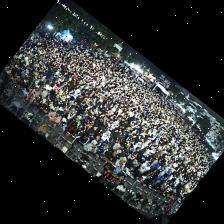person: (68, 133, 90, 150), (134, 162, 151, 178), (133, 152, 148, 167), (137, 169, 151, 184), (152, 174, 168, 186), (65, 122, 77, 138), (103, 150, 116, 163), (123, 162, 135, 176), (75, 121, 87, 134), (48, 111, 61, 123), (84, 141, 97, 153), (128, 147, 139, 161), (151, 163, 167, 172), (151, 181, 164, 192), (39, 101, 50, 114), (99, 131, 110, 143), (108, 144, 120, 155), (116, 149, 128, 160), (115, 158, 125, 170), (31, 95, 41, 107), (87, 125, 97, 137), (144, 177, 157, 186), (114, 131, 125, 141), (50, 94, 60, 105), (68, 102, 77, 114), (52, 81, 61, 93), (16, 78, 25, 90), (96, 144, 104, 157), (152, 151, 162, 161), (109, 138, 120, 147), (157, 169, 168, 178), (102, 140, 109, 154), (90, 134, 99, 144), (94, 117, 103, 127), (58, 118, 66, 129), (31, 86, 39, 97), (41, 89, 49, 100), (110, 129, 118, 140), (66, 117, 76, 125), (67, 109, 75, 119), (50, 102, 58, 112), (59, 91, 66, 102), (58, 102, 66, 111), (11, 77, 20, 85), (165, 191, 174, 199), (96, 175, 105, 183), (60, 108, 67, 118), (87, 119, 93, 130), (110, 122, 118, 130), (26, 94, 33, 103), (42, 95, 49, 103), (9, 73, 17, 80), (76, 116, 82, 125), (172, 194, 179, 201), (46, 82, 52, 90), (39, 86, 45, 94), (24, 74, 28, 84)
